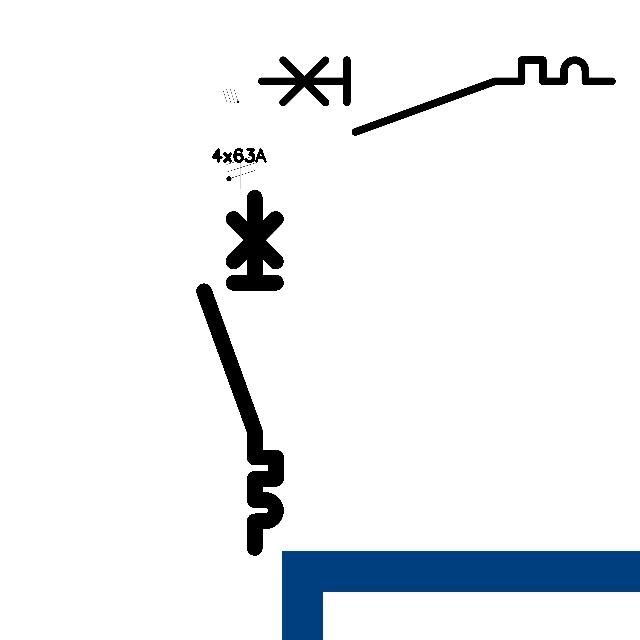interruptor_termomagnetico: (252, 51, 621, 141), (195, 188, 285, 556)
